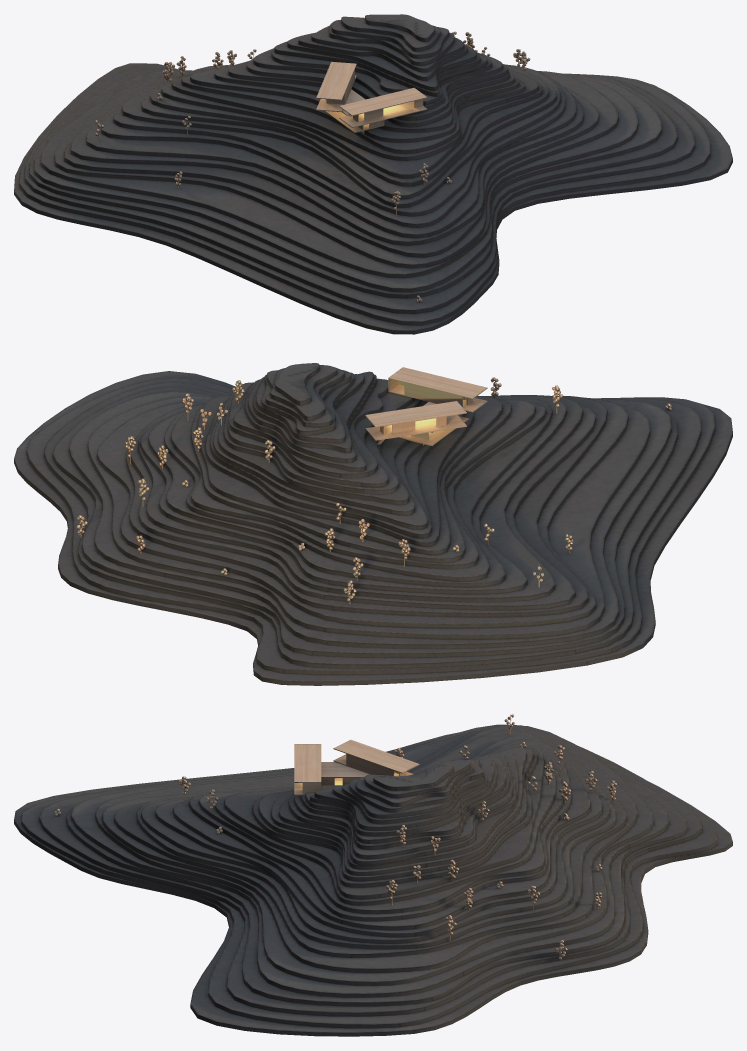
File: brown.gltf
3 views of the same model, one above another, from view 1: azimuth 30°, elevation 25°; view 2: azimuth 150°, elevation 25°; view 3: azimuth 270°, elevation 25° (orthographic). The views are drawn at different scales.
Visible parts, largest first — view 1: hill, house, trees; view 2: hill, house, trees; view 3: hill, house, trees.
Part boxes in pixels (bbox=[...]): hill: bbox=[14, 14, 732, 334]; house: bbox=[316, 61, 427, 133]; trees: bbox=[95, 31, 530, 302]; hill: bbox=[14, 363, 732, 685]; house: bbox=[365, 367, 487, 445]; trees: bbox=[77, 377, 671, 604]; hill: bbox=[14, 724, 732, 1036]; house: bbox=[294, 739, 419, 795]; trees: bbox=[54, 714, 616, 960].
Bounding box in the file's own units: 7.99 × 1.6 × 7.99.
Materials: 3 (3 with a texture image).
